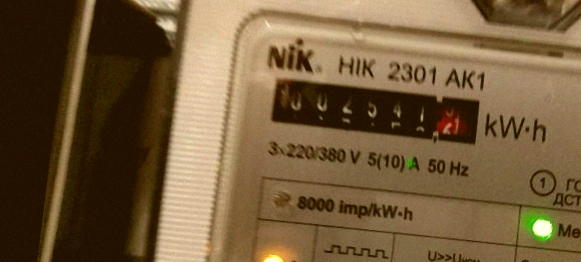0: (285, 85, 306, 113), (313, 85, 330, 114)
1: (412, 95, 429, 124)
2: (337, 88, 356, 115)
4: (389, 93, 405, 118)
5: (362, 90, 383, 120)
6: (438, 116, 455, 135)
screen: (256, 60, 496, 159)
